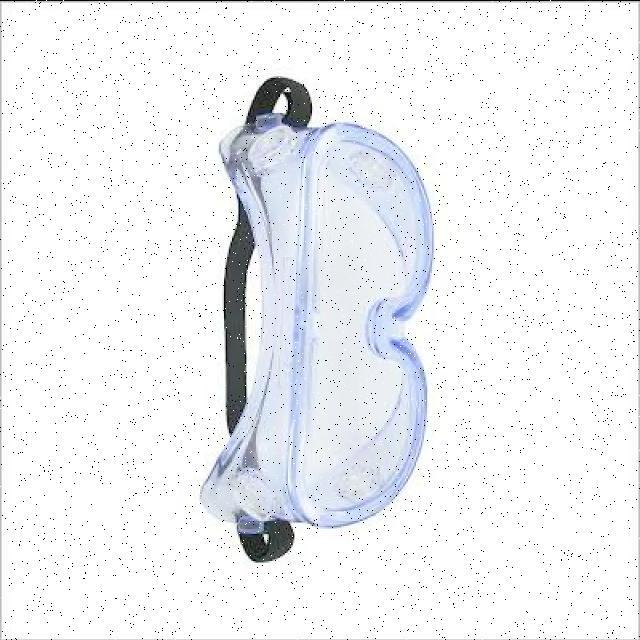Goggles: (195, 56, 445, 568)
